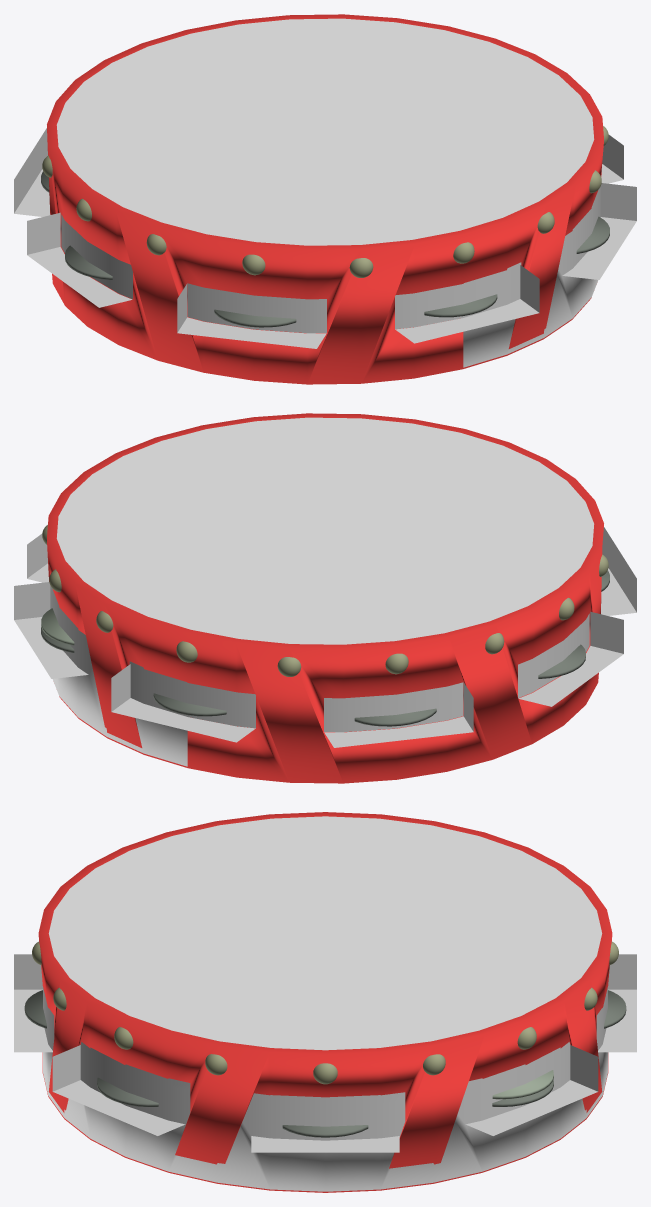
Rendered from tambourine rahil.glb.
The picture shows the model from 3 angles, top to bottom: view 1: azimuth 30°, elevation 25°; view 2: azimuth 150°, elevation 25°; view 3: azimuth 270°, elevation 25°; orthographic projection. The views are drawn at different scales.
Parts seen in each view (by area): view 1: Cylinder.001, Cylinder, Cube, Cylinder.002, Sphere; view 2: Cylinder.001, Cylinder, Cube, Cylinder.002, Sphere, Cylinder.003; view 3: Cylinder.001, Cylinder, Cube, Cylinder.002, Sphere, Cylinder.003.
Part boxes in pixels (x1,y1,x2,y2): Cylinder.001: [47, 14, 603, 384]; Cylinder: [61, 187, 600, 367]; Cube: [14, 128, 636, 348]; Cylinder.002: [41, 171, 609, 327]; Sphere: [42, 126, 608, 277]; Cylinder.001: [47, 413, 603, 783]; Cylinder: [50, 586, 589, 766]; Cube: [14, 527, 636, 747]; Cylinder.002: [41, 570, 609, 726]; Sphere: [42, 525, 608, 676]; Cylinder.003: [41, 608, 74, 645]; Cylinder.001: [38, 812, 612, 1192]; Cylinder: [43, 987, 607, 1191]; Cube: [14, 954, 636, 1152]; Cylinder.002: [24, 990, 626, 1137]; Sphere: [32, 941, 618, 1084]; Cylinder.003: [492, 1070, 553, 1099].
Size of the model in its own units: 1.59 by 0.3939 by 1.59.
